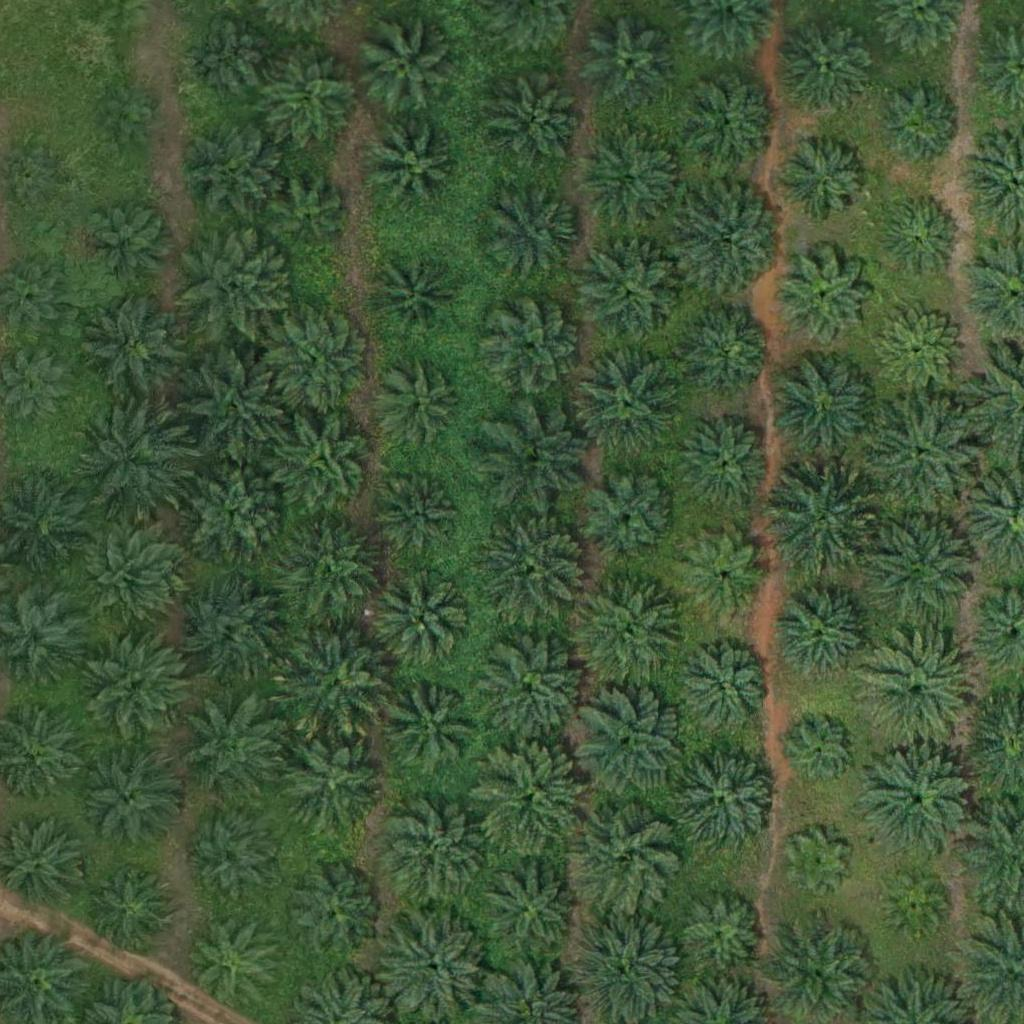Kelapa_Sawit: (573, 236, 686, 350), (673, 182, 786, 296), (770, 352, 883, 466), (762, 465, 875, 579), (78, 631, 191, 745), (179, 230, 292, 343), (479, 517, 592, 630), (474, 636, 587, 749), (768, 574, 881, 687), (860, 636, 973, 749), (862, 747, 975, 860), (567, 802, 680, 915), (472, 740, 585, 853), (474, 860, 587, 973), (868, 397, 980, 511), (865, 509, 977, 623), (176, 695, 288, 809), (73, 292, 185, 405), (74, 407, 186, 520), (179, 354, 291, 467), (176, 572, 288, 685), (280, 524, 392, 637), (479, 396, 591, 509), (572, 343, 684, 456), (569, 574, 681, 687), (671, 746, 783, 859), (571, 687, 683, 800), (381, 794, 493, 907), (277, 628, 389, 741), (777, 14, 877, 115), (257, 42, 357, 143), (187, 3, 287, 104), (187, 126, 287, 227), (186, 467, 286, 568), (275, 312, 375, 413), (273, 409, 373, 510), (365, 251, 465, 352), (372, 569, 472, 670), (481, 292, 581, 393), (578, 463, 678, 564), (378, 678, 478, 779), (484, 71, 584, 171), (359, 18, 459, 118), (82, 528, 182, 628), (489, 179, 589, 279), (581, 127, 681, 227), (675, 301, 775, 401), (675, 415, 775, 515), (772, 247, 872, 347), (281, 737, 381, 837), (282, 867, 382, 967), (181, 910, 281, 1010), (78, 752, 178, 852), (83, 198, 171, 286), (680, 647, 768, 735), (779, 138, 867, 226), (877, 192, 965, 280), (874, 306, 962, 394), (677, 887, 765, 975), (375, 472, 462, 561), (585, 22, 672, 110), (685, 77, 772, 165), (378, 359, 465, 447), (680, 531, 767, 619), (875, 80, 962, 168), (183, 818, 270, 906), (81, 865, 168, 953), (379, 132, 454, 208), (274, 177, 349, 252), (883, 874, 946, 937), (791, 720, 854, 783), (786, 831, 849, 894), (3, 153, 65, 216), (106, 83, 156, 134)
